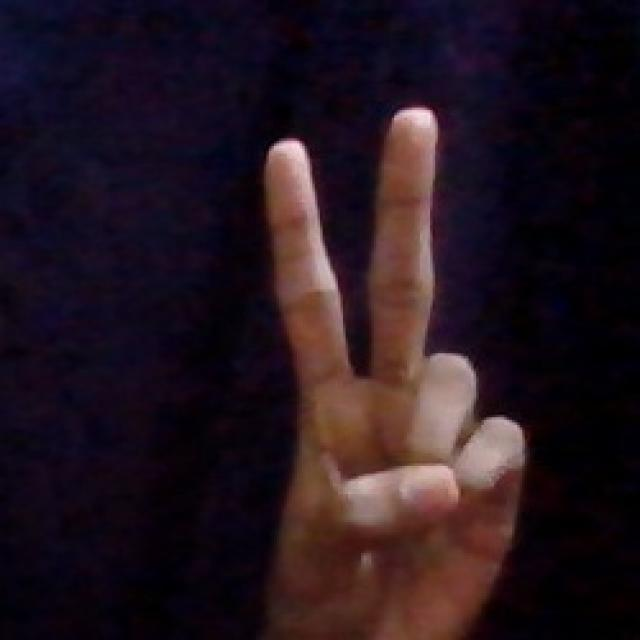Numeric-2: (258, 106, 528, 621)
